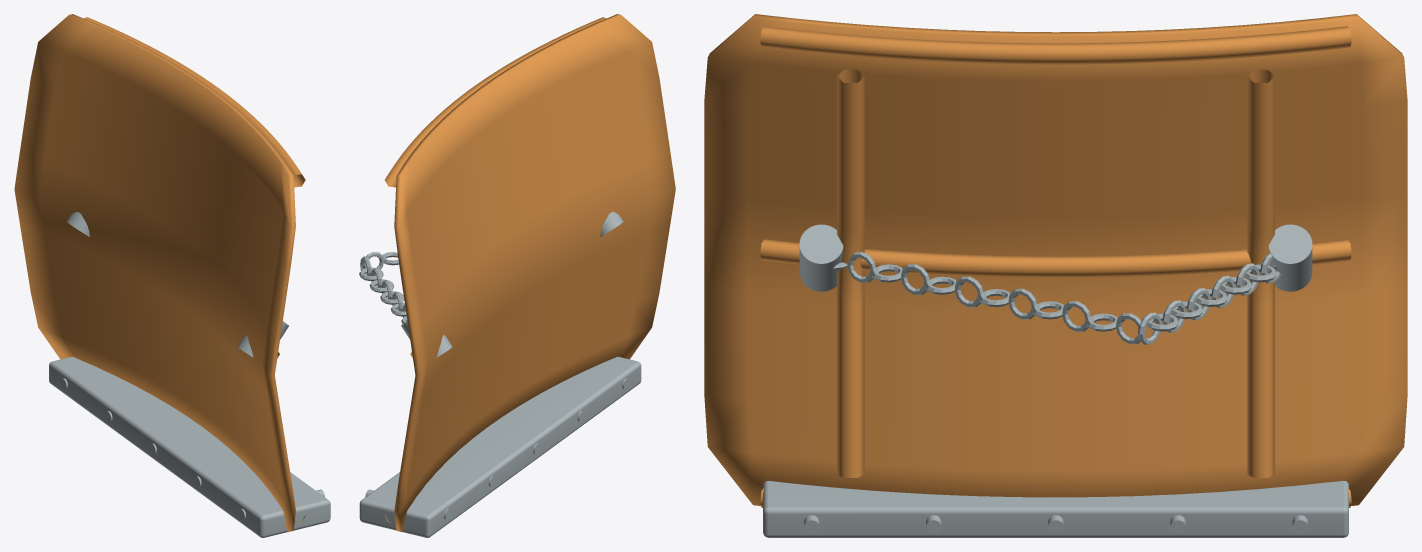
File: trawl_door_port.glb
3 views of the same model, side by side, from view 1: azimuth 30°, elevation 25°; view 2: azimuth 150°, elevation 25°; view 3: azimuth 270°, elevation 25° (orthographic). The views are drawn at different scales.
Visible parts, largest first — view 1: trawl_door_port Warm white painted steel.001, trawl_door_port Fixed_Galvanized; view 2: trawl_door_port Warm white painted steel.001, trawl_door_port Fixed_Galvanized; view 3: trawl_door_port Warm white painted steel.001, trawl_door_port Fixed_Galvanized.
Part boxes in pixels (x1=…): trawl_door_port Warm white painted steel.001: x1=14, y1=14, x2=305, y2=531; trawl_door_port Fixed_Galvanized: x1=49, y1=212, x2=330, y2=537; trawl_door_port Warm white painted steel.001: x1=384, y1=14, x2=675, y2=531; trawl_door_port Fixed_Galvanized: x1=359, y1=212, x2=641, y2=537; trawl_door_port Warm white painted steel.001: x1=704, y1=14, x2=1407, y2=507; trawl_door_port Fixed_Galvanized: x1=763, y1=224, x2=1348, y2=537.
Size of the model in its own units: 0.5076 by 1.12 by 1.44.
